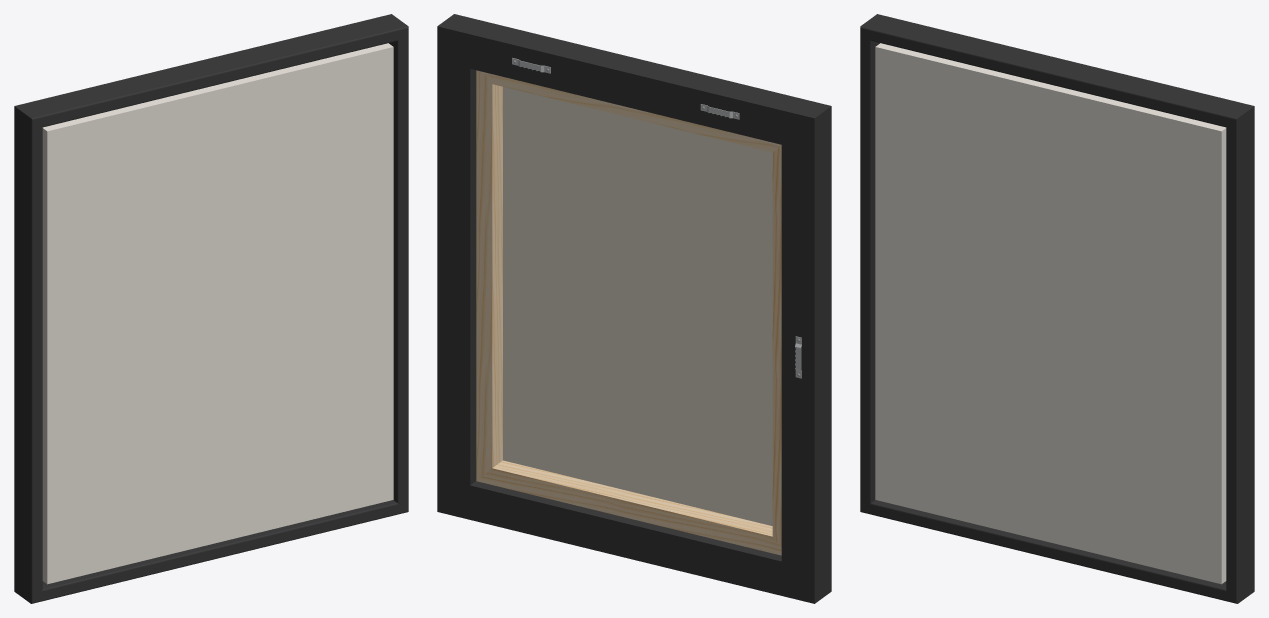
The model's file is delivery.glb.
3 renders of one model, left to right at view 1: azimuth 30°, elevation 25°; view 2: azimuth 150°, elevation 25°; view 3: azimuth 330°, elevation 25°, orthographic.
Visible parts, largest first — view 1: Canvas artwork front, Tray approved profile 0; view 2: Canvas linen reverse, Tray approved profile 0, Stretcher top, Sawtooth hanger 0; view 3: Canvas artwork front, Tray approved profile 0.
Part boxes in pixels (bbox=[...]): Canvas artwork front: bbox=[42, 43, 393, 584]; Tray approved profile 0: bbox=[14, 14, 408, 603]; Canvas linen reverse: bbox=[503, 87, 772, 525]; Tray approved profile 0: bbox=[437, 14, 831, 603]; Stretcher top: bbox=[476, 70, 781, 555]; Sawtooth hanger 0: bbox=[512, 58, 801, 378]; Canvas artwork front: bbox=[875, 43, 1226, 584]; Tray approved profile 0: bbox=[860, 14, 1254, 603].
Bounding box in the file's own units: 0.436 × 0.536 × 0.0374.
7 materials, 2 textured.
